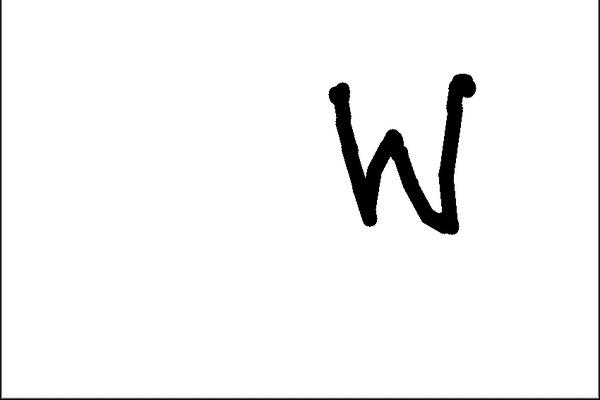w: (310, 63, 487, 243)
